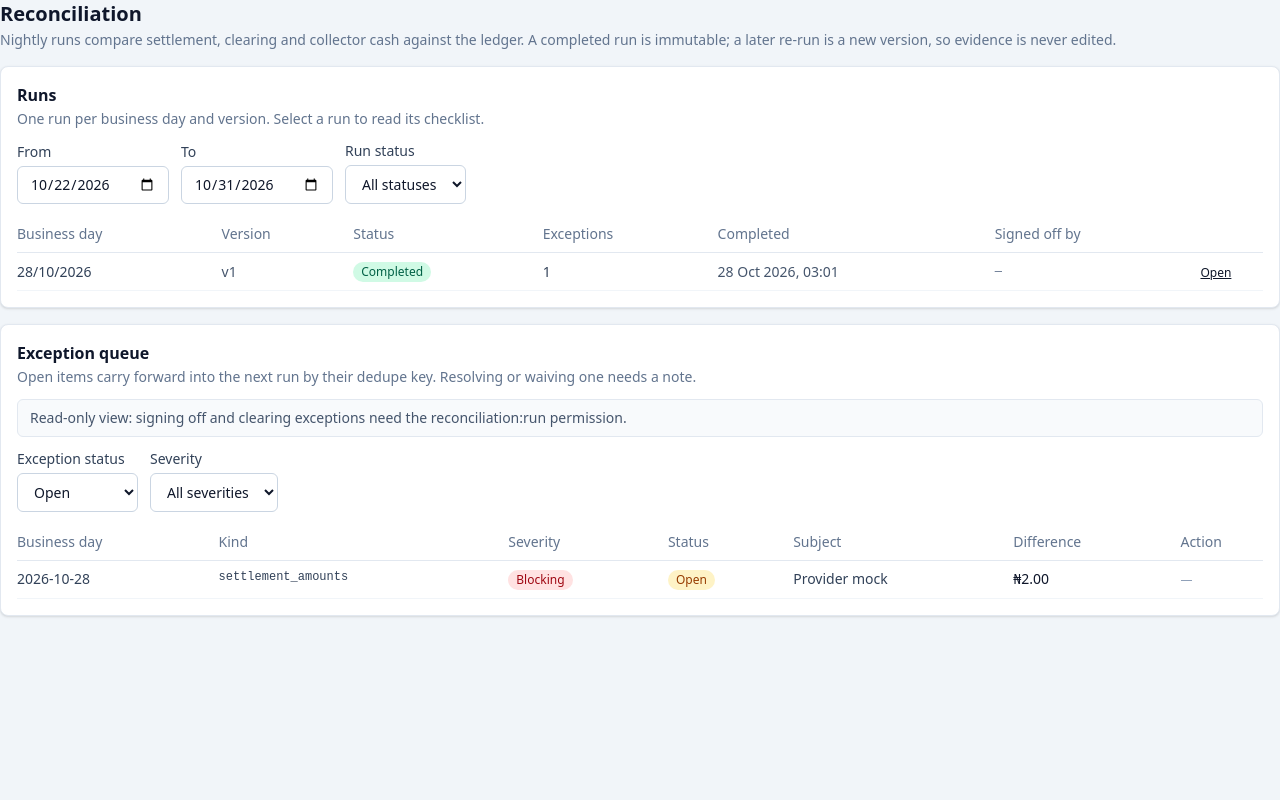
it: ReconciliationPage › gives an auditor the data but no sign-off, resolve or waive controls
Expected: the text "Provider mock" is shown, x1=793 y1=560 x2=1013 y2=598
Expected: the text "Read-only view" is shown, x1=30 y1=408 x2=627 y2=427
Click the button "Open": [1216, 272] box x1=1200 y1=264 x2=1231 y2=280
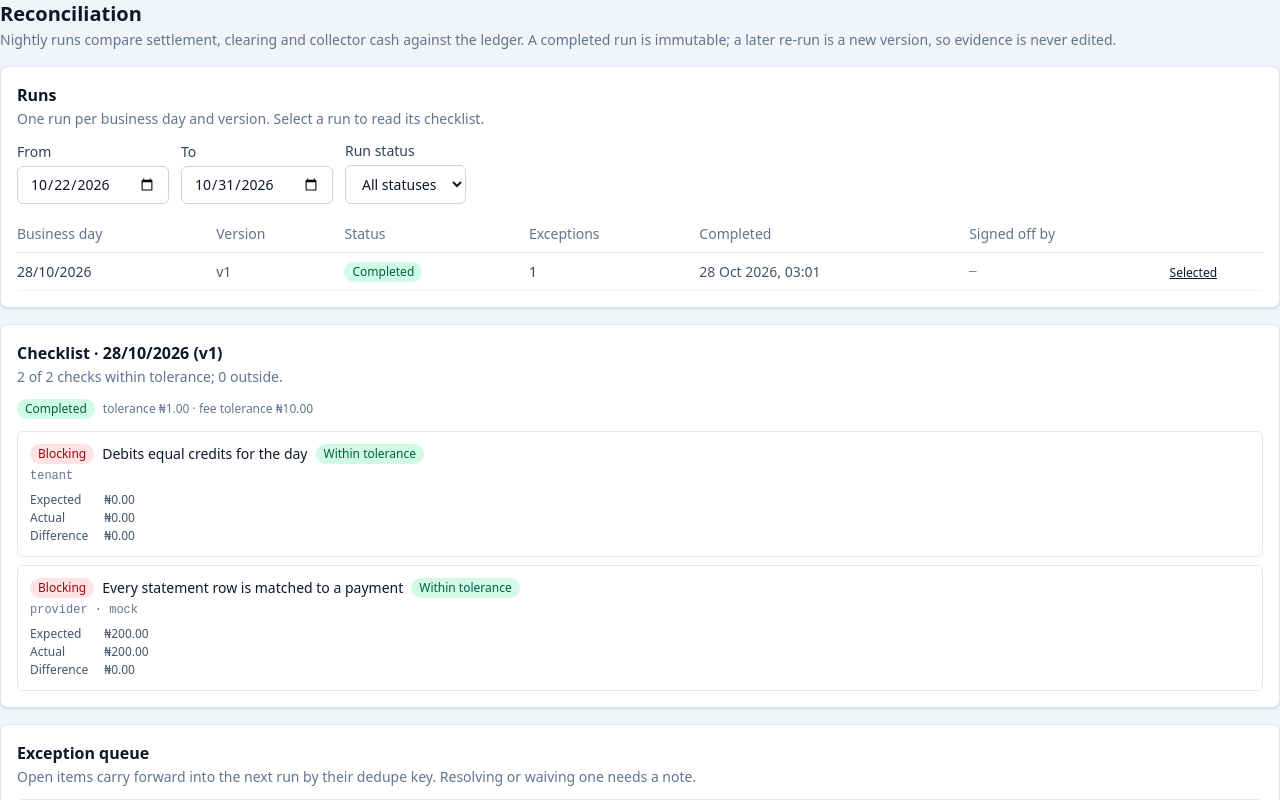
Result: the text "Debits equal credits for the day" is shown at x1=102 y1=444 x2=308 y2=464
